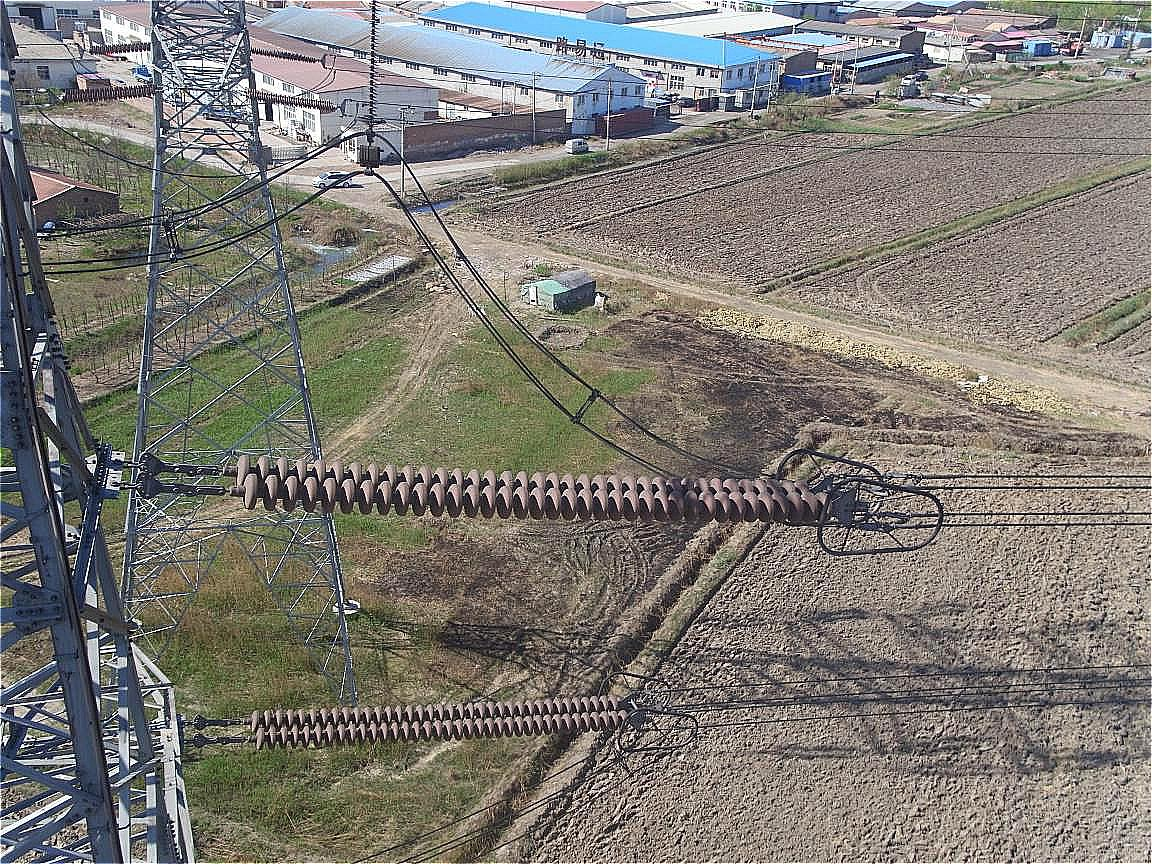insultor1: (197, 442, 869, 542), (236, 686, 637, 742)
